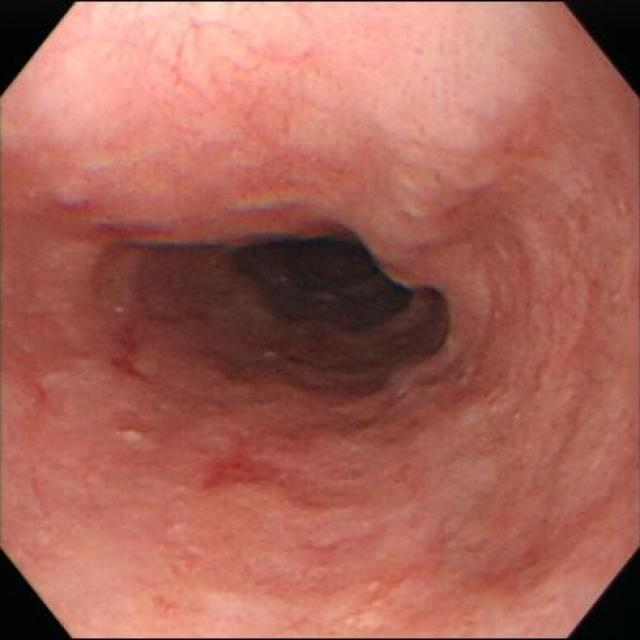A: (110, 321, 165, 399), (199, 447, 285, 495)
E: (231, 231, 421, 386)
